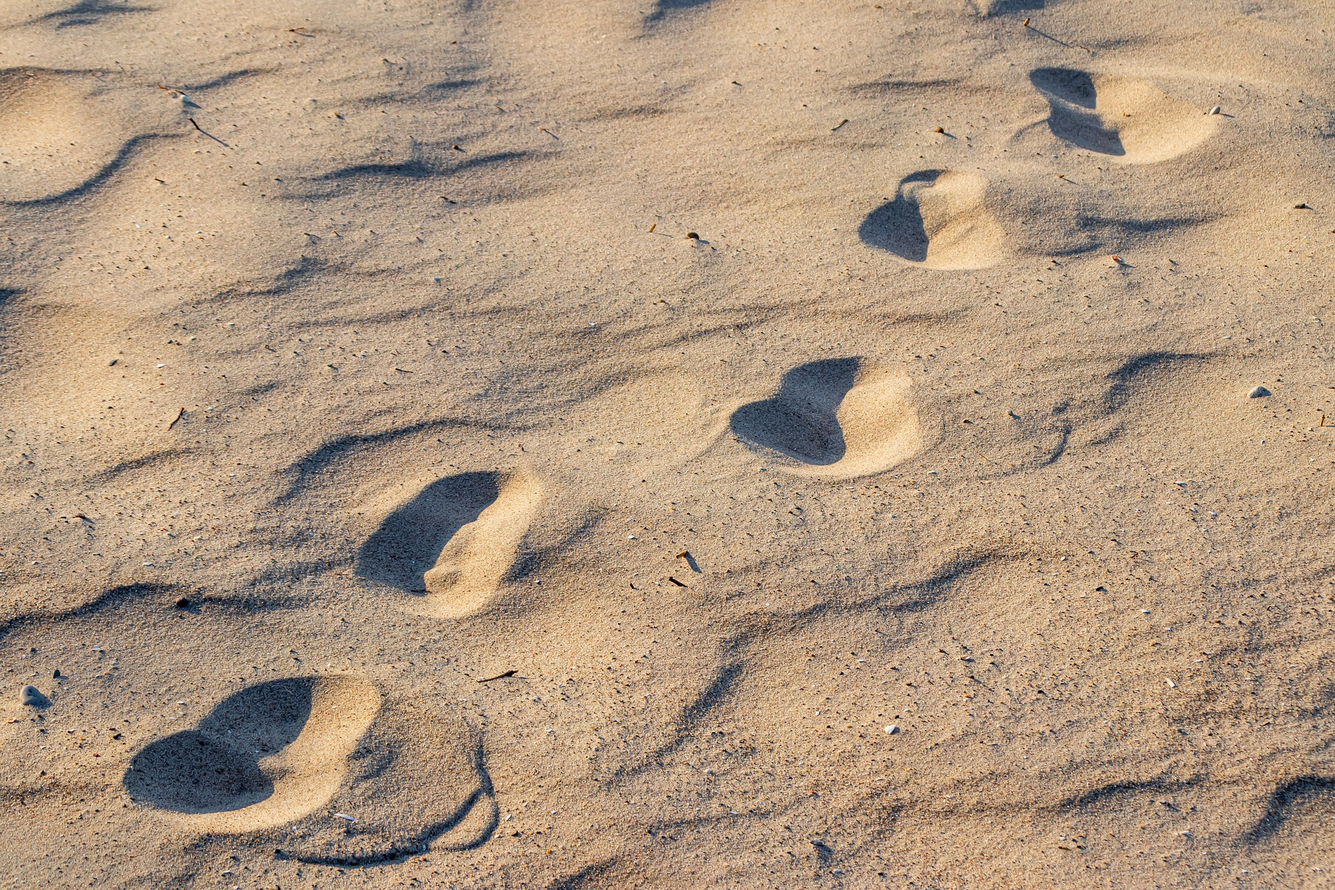human_footprint: (357, 471, 540, 617), (729, 357, 923, 477), (1029, 67, 1217, 163), (859, 170, 1006, 269)
